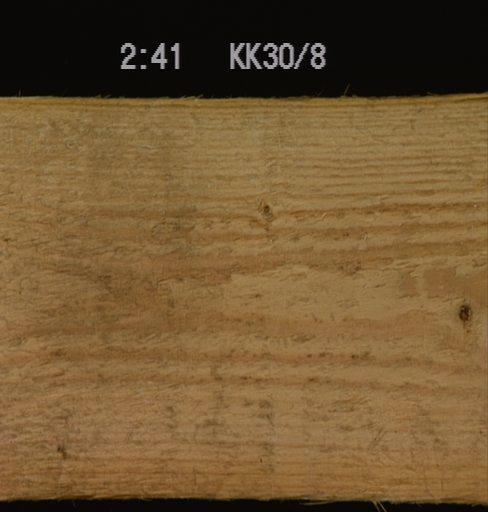small_knot: (49, 435, 82, 465), (254, 193, 279, 220)
